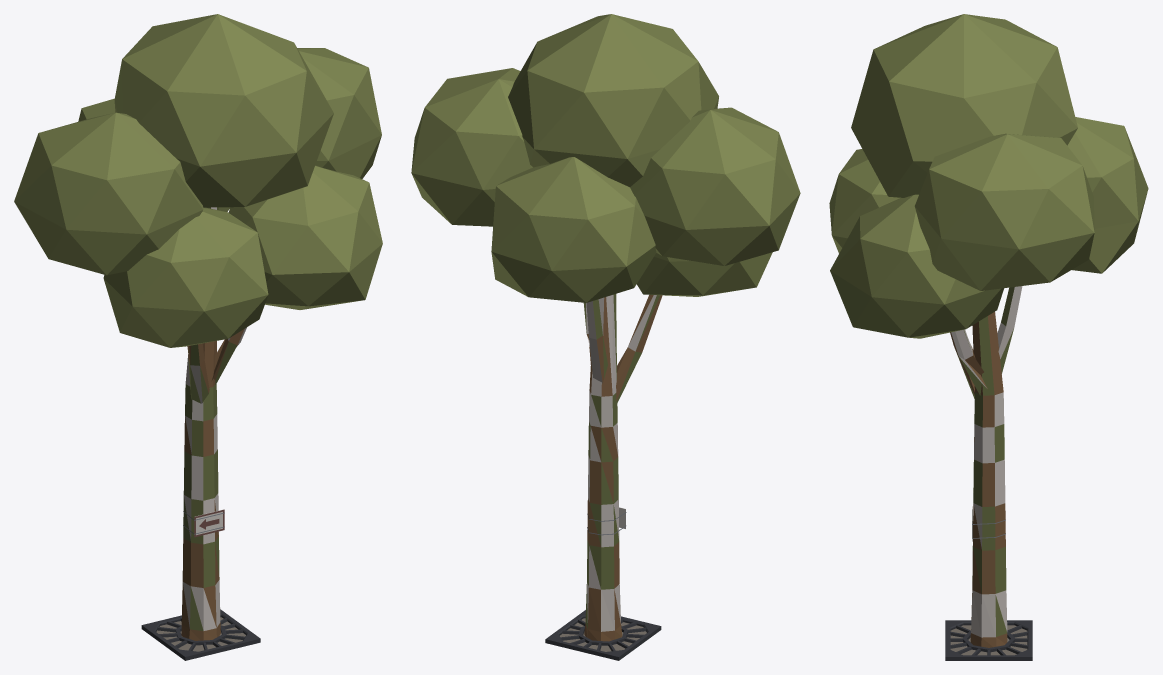
File: tree-in-pit-grate-ea8010.glb
3 views of the same model, side by side, from view 1: azimuth 30°, elevation 25°; view 2: azimuth 150°, elevation 25°; view 3: azimuth 270°, elevation 25° (orthographic). The views are drawn at different scales.
Parts seen in each view (by area): view 1: tree-in-pit-grate-ea8010; view 2: tree-in-pit-grate-ea8010; view 3: tree-in-pit-grate-ea8010.
Part boxes in pixels (x1,y1,x2,y2): tree-in-pit-grate-ea8010: (14,14,382,660); tree-in-pit-grate-ea8010: (411,14,800,660); tree-in-pit-grate-ea8010: (829,14,1148,660).
Bounding box in the file's own units: 4.74 × 7.98 × 3.66.
